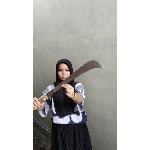Golok: (40, 58, 108, 104)
